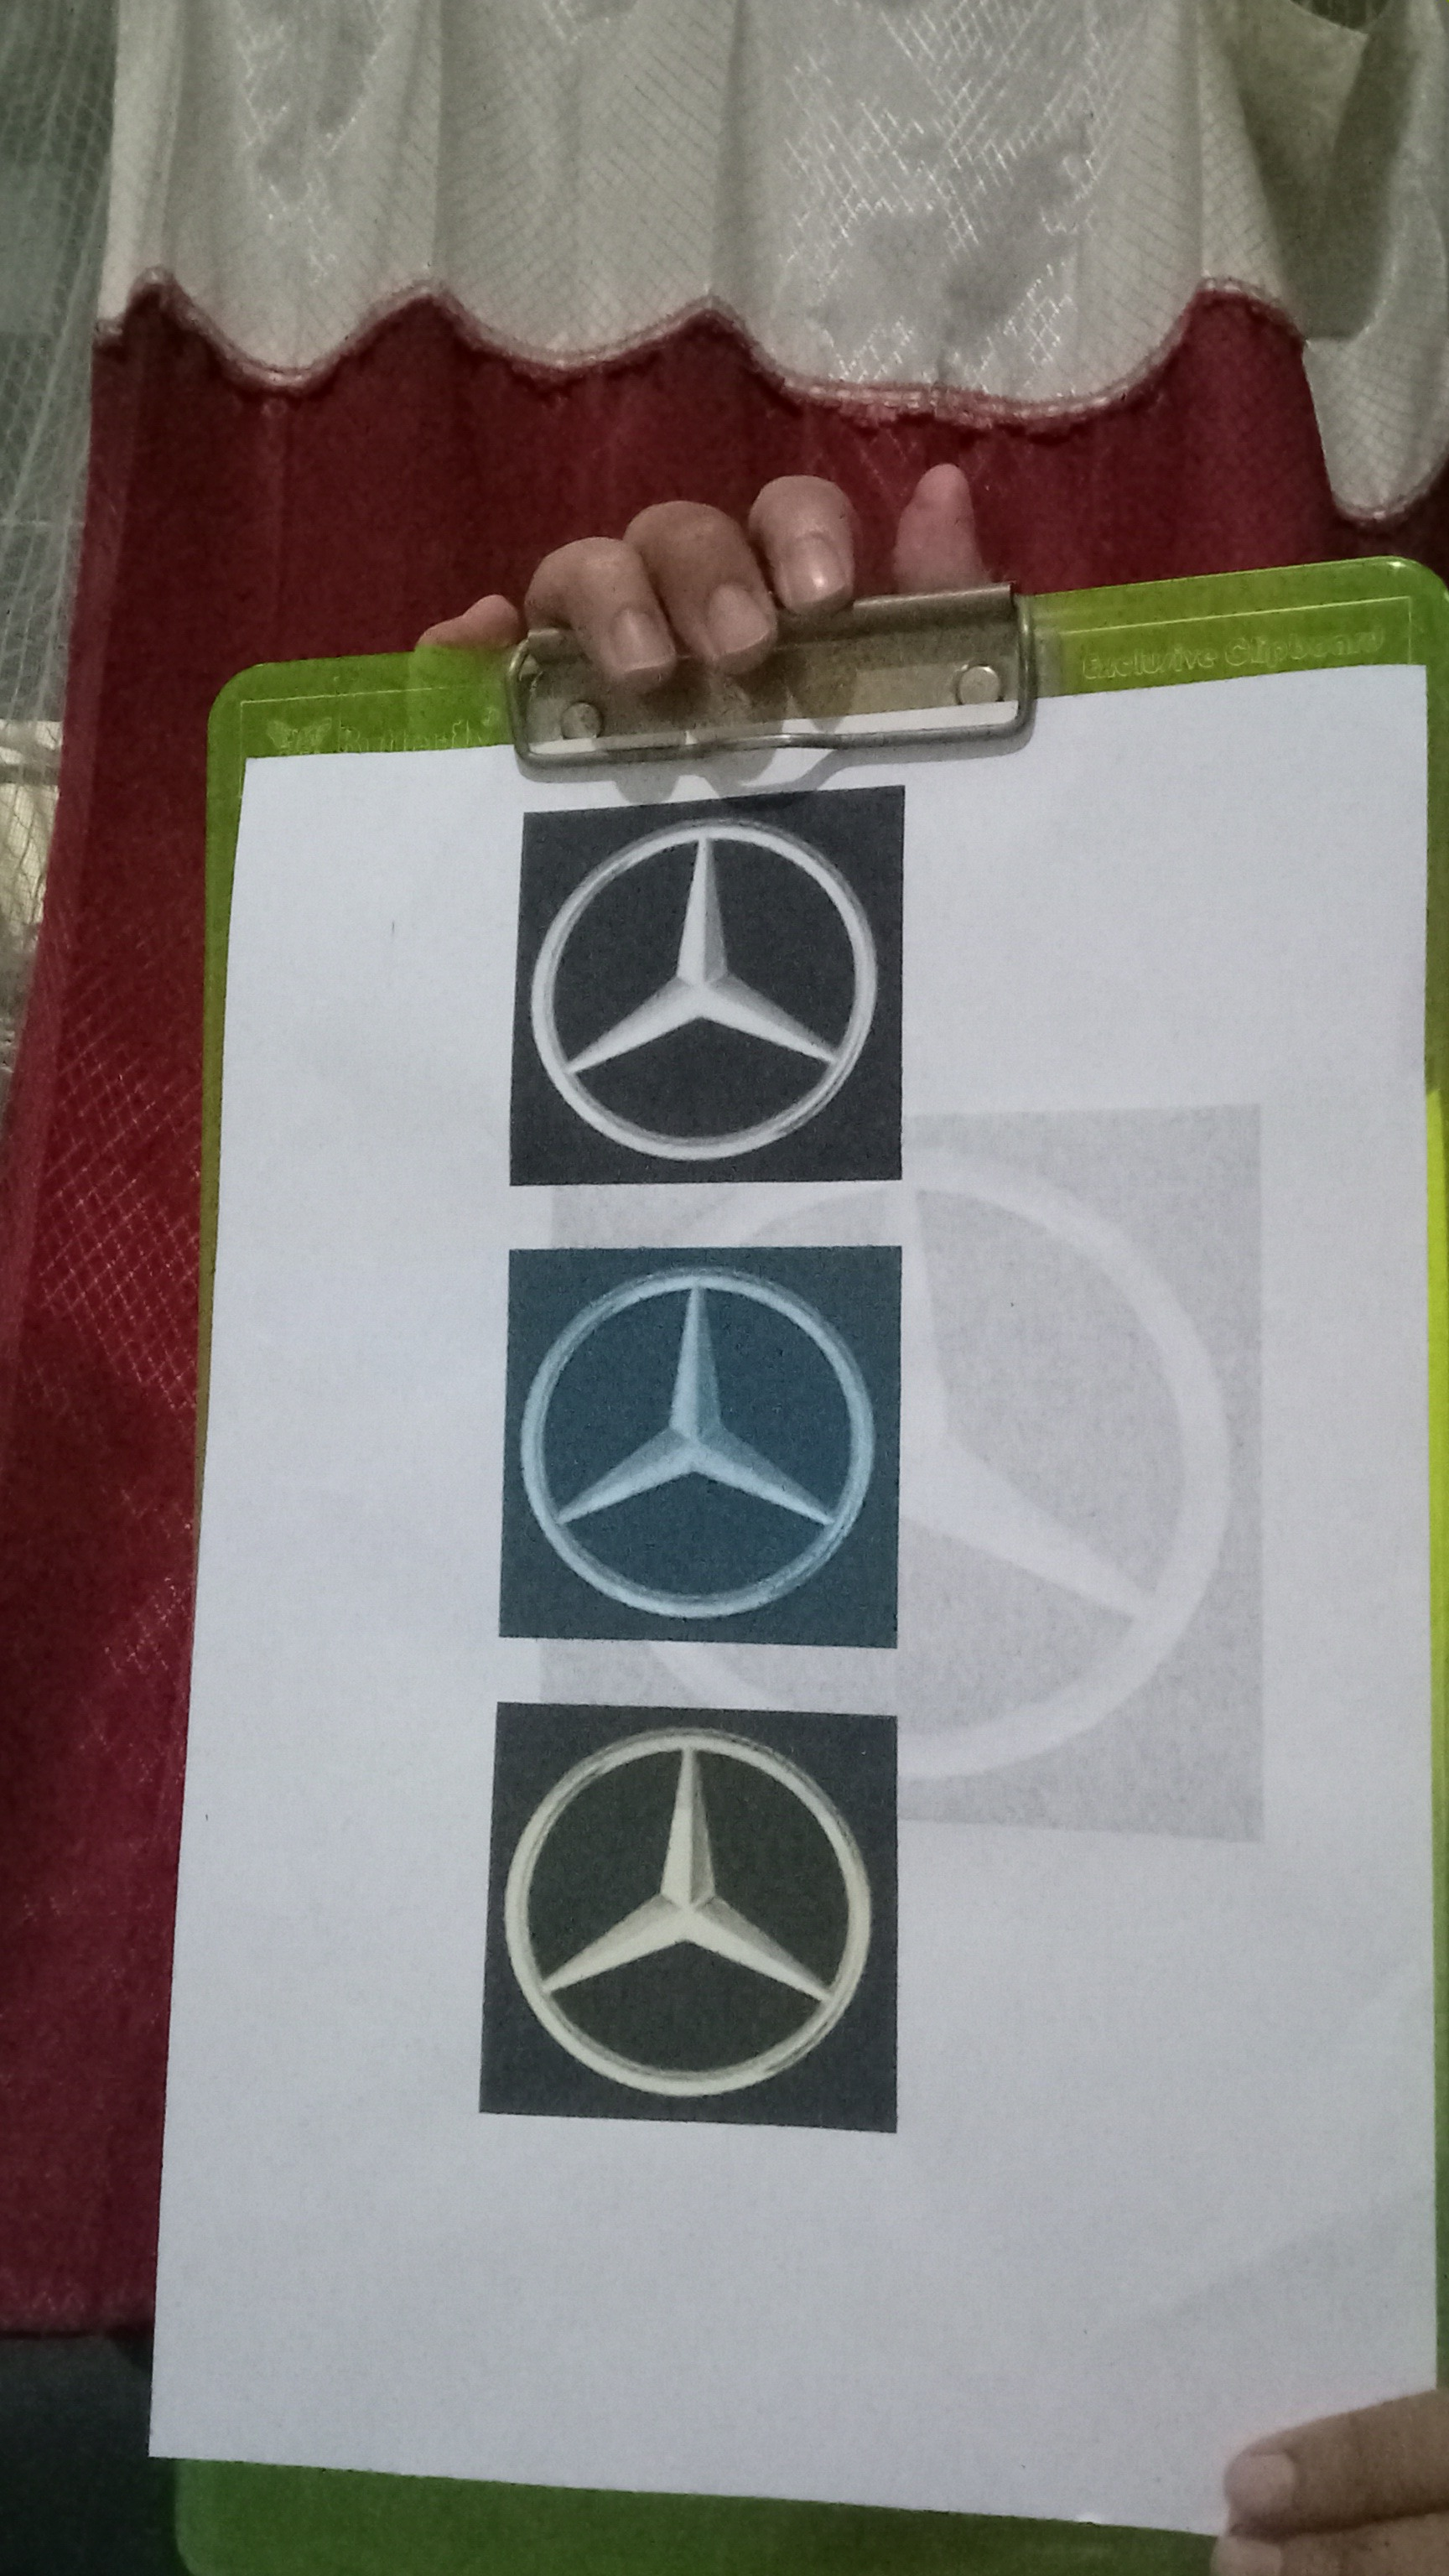Mercedes: (495, 1711, 892, 2118), (510, 1253, 886, 1633), (518, 810, 892, 1173)
